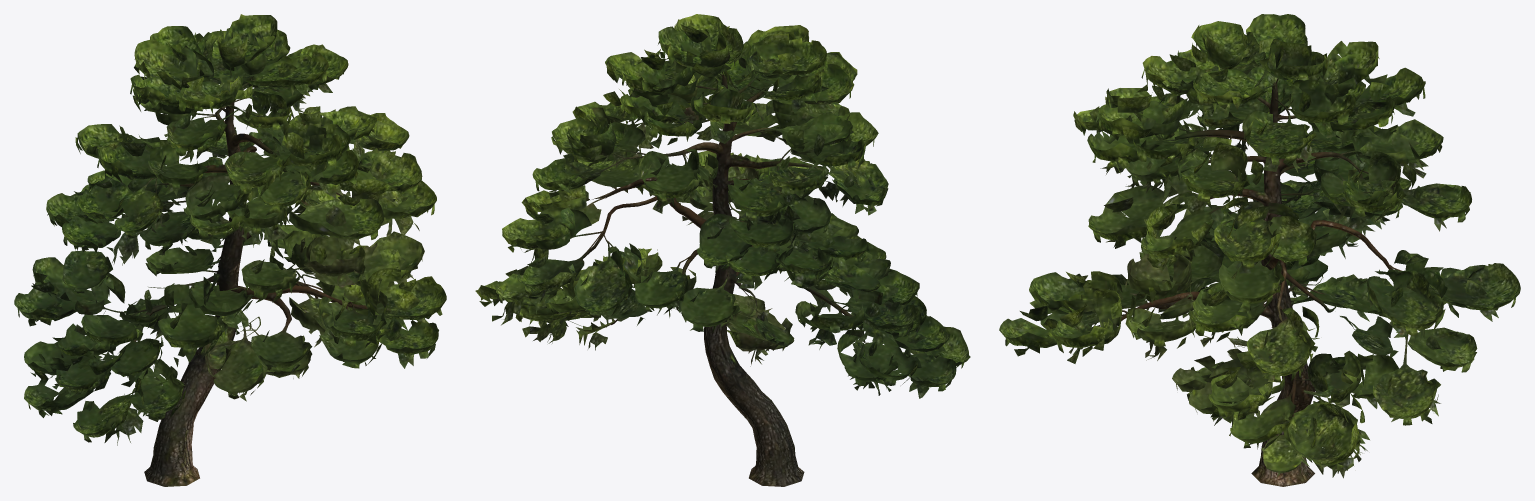
Rendered from tree_1-64860fb660.glb.
3 renders of one model, left to right at view 1: azimuth 30°, elevation 25°; view 2: azimuth 150°, elevation 25°; view 3: azimuth 270°, elevation 25°, orthographic. The views are drawn at different scales.
Visible parts, largest first — view 1: tripo_node_1a11c955-8a54-4ae9-926c-44db92288b20; view 2: tripo_node_1a11c955-8a54-4ae9-926c-44db92288b20; view 3: tripo_node_1a11c955-8a54-4ae9-926c-44db92288b20.
Part boxes in pixels (left/top/right/bottom): tripo_node_1a11c955-8a54-4ae9-926c-44db92288b20: left=14, top=14, right=446, bottom=486; tripo_node_1a11c955-8a54-4ae9-926c-44db92288b20: left=475, top=14, right=970, bottom=486; tripo_node_1a11c955-8a54-4ae9-926c-44db92288b20: left=999, top=14, right=1520, bottom=486.
Size of the model in its own units: 0.9995 by 0.9907 by 0.9995.
Materials: 1 (1 with a texture image).
